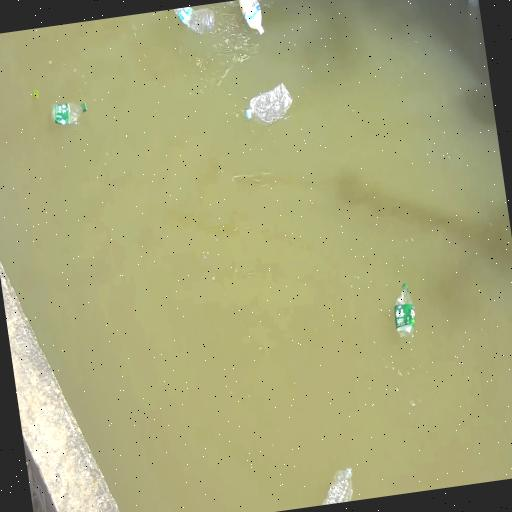plastic: (244, 84, 291, 124), (393, 282, 416, 339), (174, 7, 214, 34), (323, 468, 352, 504), (238, 0, 263, 34), (51, 103, 86, 125)
